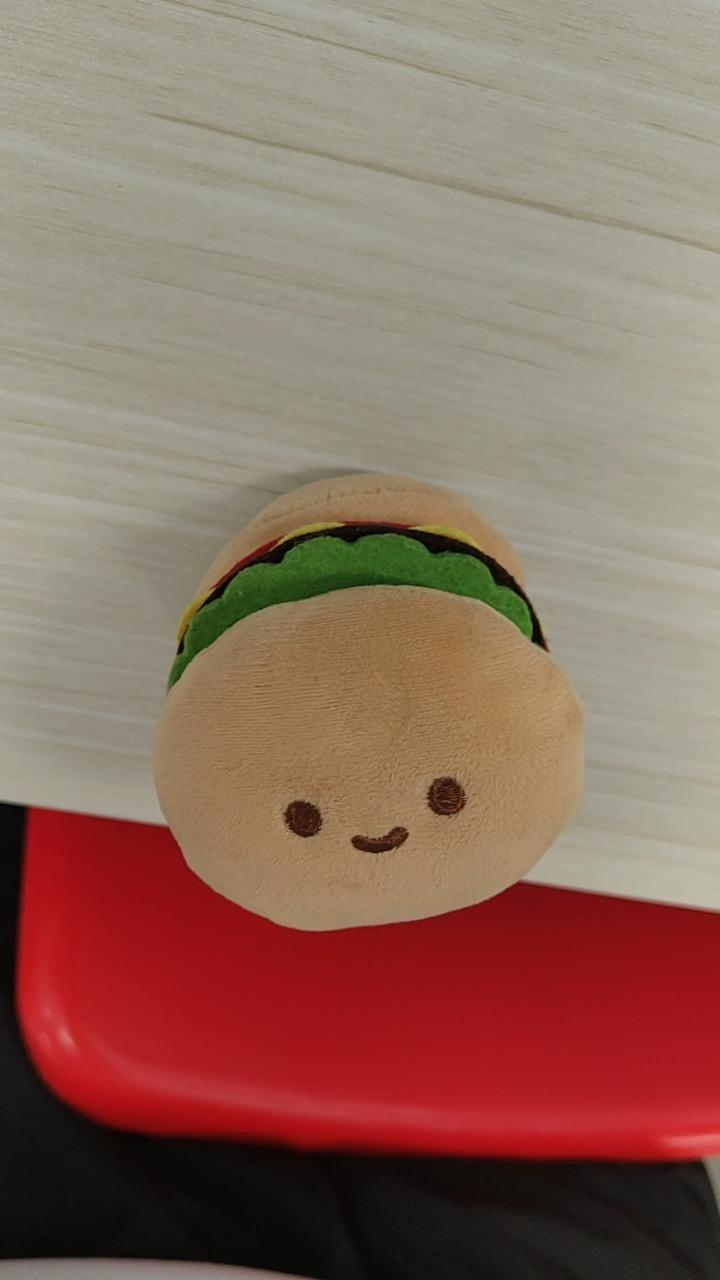hamburger: (150, 470, 586, 933)
